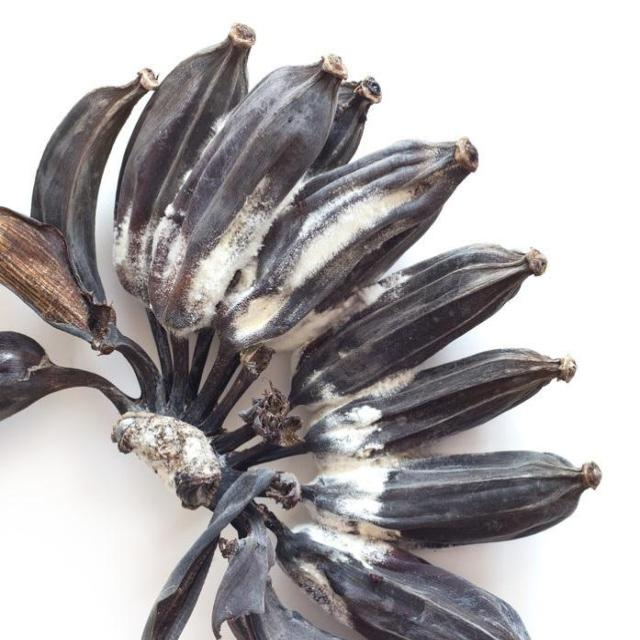Wet Waste: (1, 21, 603, 639)
